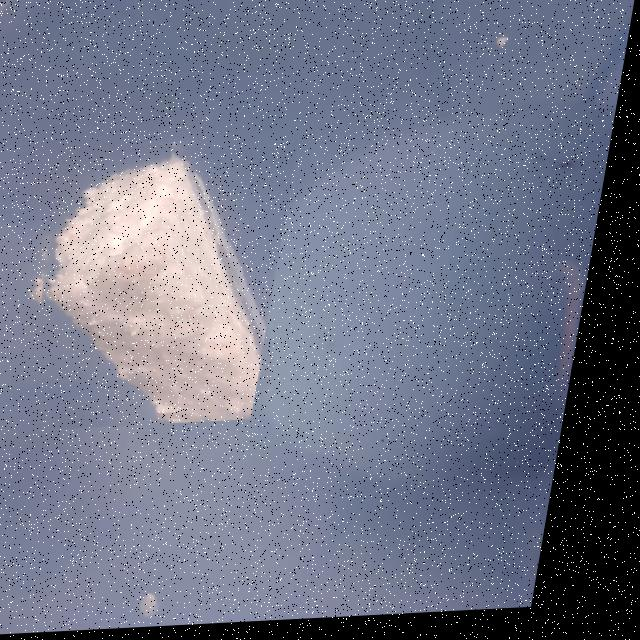thermocoal: (18, 133, 305, 433)
